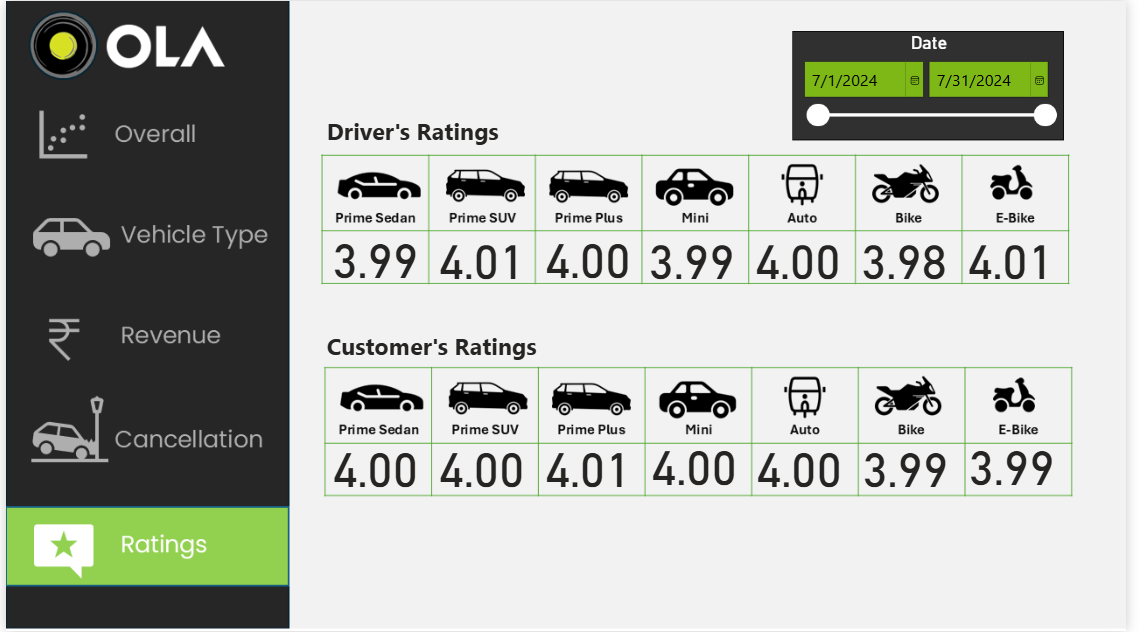

Layout of this report page (visuals, bound fields, positions):
{"tool":"powerbi","page":{"name":"Ratings","canvas":[1280,720],"ordinal":4},"visuals":[{"type":"actionButton","box":[0,96.7,322.8,116.6],"z":0},{"type":"actionButton","box":[0,213.3,322.8,116.6],"z":1000},{"type":"actionButton","box":[0,330,322.8,116.6],"z":2000},{"type":"actionButton","box":[0,446.6,322.8,130.8],"z":3000},{"type":"card","fields":{"Values":["Avg(Bookings (2).Driver_Ratings)"]},"box":[361.5,272.3,121.5,56.9],"z":4000},{"type":"card","fields":{"Values":["Avg(Bookings (2).Driver_Ratings)"]},"box":[604.6,272.3,121.5,56.9],"z":5000},{"type":"card","fields":{"Values":["Avg(Bookings (2).Driver_Ratings)"]},"box":[723.1,273.8,121.5,56.9],"z":6000},{"type":"card","fields":{"Values":["Avg(Bookings (2).Driver_Ratings)"]},"box":[844.6,273.8,121.5,56.9],"z":7000},{"type":"card","fields":{"Values":["Avg(Bookings (2).Driver_Ratings)"]},"box":[966.2,273.8,121.5,56.9],"z":8000},{"type":"card","fields":{"Values":["Avg(Bookings (2).Driver_Ratings)"]},"box":[1087.7,273.8,121.5,56.9],"z":9000},{"type":"card","fields":{"Values":["Avg(Bookings (2).Driver_Ratings)"]},"box":[483.1,273.8,121.5,56.9],"z":10000},{"type":"textbox","box":[361.5,126.2,243.1,50.8],"z":11000},{"type":"textbox","box":[361.5,370.8,278.5,53.8],"z":11001},{"type":"card","fields":{"Values":["Avg(Bookings (2).Customer_Rating)"]},"box":[361.5,483.1,121.5,93.8],"z":11002},{"type":"card","fields":{"Values":["Avg(Bookings (2).Customer_Rating)"]},"box":[483.1,483.1,121.5,93.8],"z":11009},{"type":"card","fields":{"Values":["Avg(Bookings (2).Customer_Rating)"]},"box":[604.6,483.1,121.5,93.8],"z":11010},{"type":"card","fields":{"Values":["Avg(Bookings (2).Customer_Rating)"]},"box":[726.2,480,121.5,93.8],"z":11011},{"type":"card","fields":{"Values":["Avg(Bookings (2).Customer_Rating)"]},"box":[846.2,483.1,121.5,93.8],"z":11012},{"type":"card","fields":{"Values":["Avg(Bookings (2).Customer_Rating)"]},"box":[967.7,483.1,121.5,93.8],"z":11013},{"type":"card","fields":{"Values":["Avg(Bookings (2).Customer_Rating)"]},"box":[1089.2,480,121.5,93.8],"z":11014},{"type":"slicer","title":"Date","fields":{"Values":["Bookings (2).Date"]},"box":[898.5,33.8,310.8,124.6],"z":11015}]}

Visuals, with their boxes on the page's 1280x720 design canvas (x1, y1, x2, y2). These are canvas units, not pixel positions in the 1139x632 screenshot, which may show the page scaled, cropped or inside an application window:
actionButton: (left=0, top=97, right=323, bottom=213)
actionButton: (left=0, top=213, right=323, bottom=330)
actionButton: (left=0, top=330, right=323, bottom=447)
actionButton: (left=0, top=447, right=323, bottom=577)
card - Avg(Bookings (2).Driver_Ratings): (left=362, top=272, right=483, bottom=329)
card - Avg(Bookings (2).Driver_Ratings): (left=605, top=272, right=726, bottom=329)
card - Avg(Bookings (2).Driver_Ratings): (left=723, top=274, right=845, bottom=331)
card - Avg(Bookings (2).Driver_Ratings): (left=845, top=274, right=966, bottom=331)
card - Avg(Bookings (2).Driver_Ratings): (left=966, top=274, right=1088, bottom=331)
card - Avg(Bookings (2).Driver_Ratings): (left=1088, top=274, right=1209, bottom=331)
card - Avg(Bookings (2).Driver_Ratings): (left=483, top=274, right=605, bottom=331)
textbox: (left=362, top=126, right=605, bottom=177)
textbox: (left=362, top=371, right=640, bottom=425)
card - Avg(Bookings (2).Customer_Rating): (left=362, top=483, right=483, bottom=577)
card - Avg(Bookings (2).Customer_Rating): (left=483, top=483, right=605, bottom=577)
card - Avg(Bookings (2).Customer_Rating): (left=605, top=483, right=726, bottom=577)
card - Avg(Bookings (2).Customer_Rating): (left=726, top=480, right=848, bottom=574)
card - Avg(Bookings (2).Customer_Rating): (left=846, top=483, right=968, bottom=577)
card - Avg(Bookings (2).Customer_Rating): (left=968, top=483, right=1089, bottom=577)
card - Avg(Bookings (2).Customer_Rating): (left=1089, top=480, right=1211, bottom=574)
"Date" slicer: (left=898, top=34, right=1209, bottom=158)
